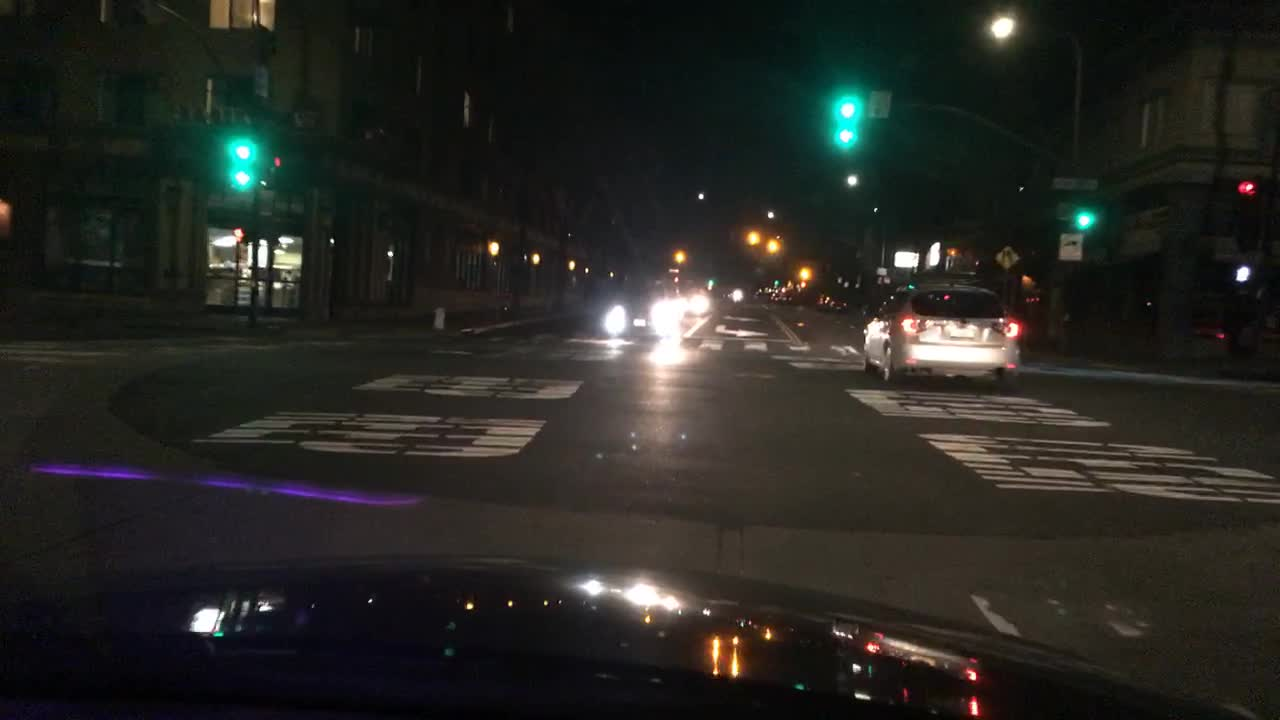car: (861, 274, 1020, 385), (592, 291, 682, 338), (673, 288, 713, 313), (830, 300, 846, 316), (779, 288, 795, 303), (729, 288, 743, 303), (713, 289, 729, 301), (817, 293, 829, 308), (753, 287, 766, 300), (770, 288, 780, 303), (763, 287, 772, 300)
traffic light: (831, 94, 861, 151), (1234, 179, 1261, 212), (1071, 211, 1095, 229), (234, 225, 253, 242), (269, 152, 285, 171)
traffic sign: (226, 137, 257, 190), (865, 90, 891, 120), (1058, 231, 1082, 261), (993, 245, 1020, 270), (1047, 177, 1098, 190), (255, 66, 269, 98), (875, 266, 888, 276)
